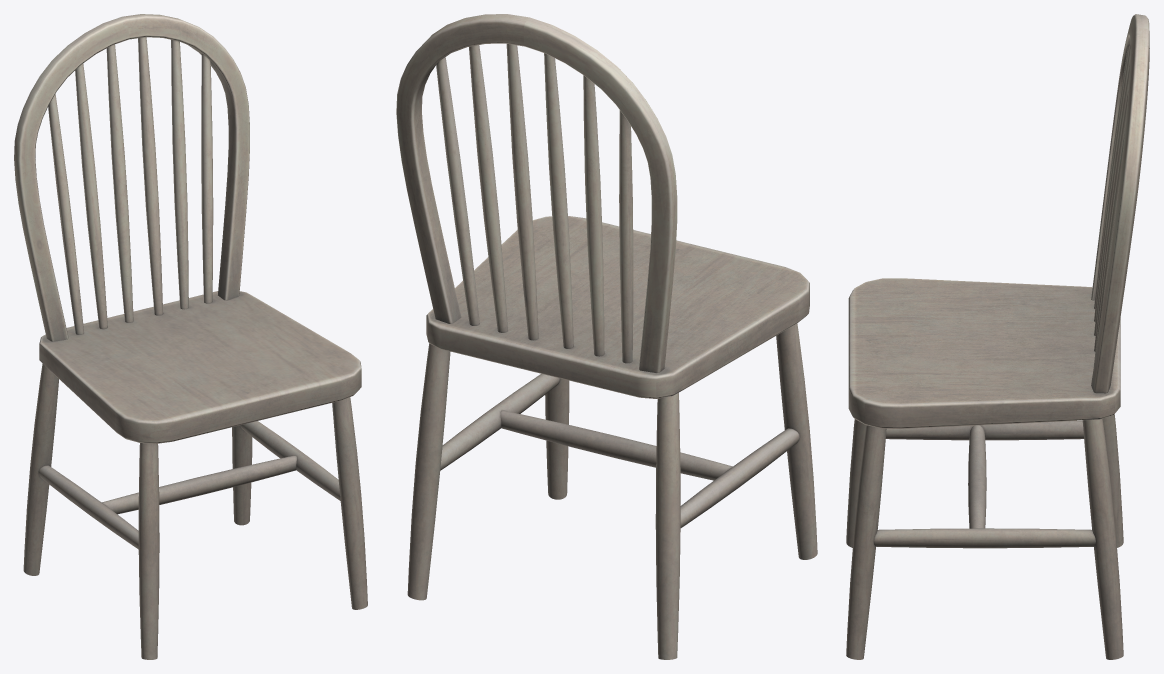
File: SM_WoodenChair07.fbx
3 views of the same model, side by side, from view 1: azimuth 30°, elevation 25°; view 2: azimuth 150°, elevation 25°; view 3: azimuth 270°, elevation 25° (orthographic). The views are drawn at different scales.
Visible parts, largest first — view 1: SM_WoodenChair07_LOD0; view 2: SM_WoodenChair07_LOD0; view 3: SM_WoodenChair07_LOD0.
Part boxes in pixels (x1=…): SM_WoodenChair07_LOD0: x1=14, y1=14, x2=367, y2=659; SM_WoodenChair07_LOD0: x1=396, y1=14, x2=817, y2=659; SM_WoodenChair07_LOD0: x1=846, y1=14, x2=1149, y2=659.
Bounding box in the file's own units: 46.76 × 47.08 × 98.27.
Materials: 1 (1 with a texture image).
